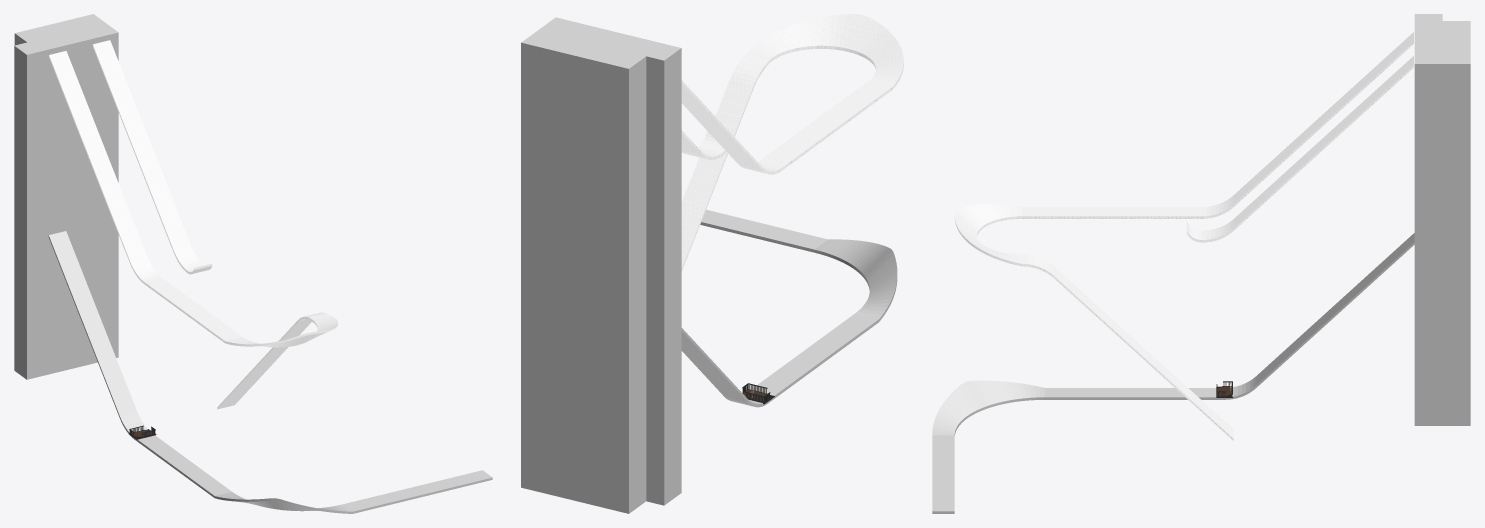
The model's file is Slides_Tower_Elevator.glb.
3 views of the same model, side by side, from view 1: azimuth 30°, elevation 25°; view 2: azimuth 150°, elevation 25°; view 3: azimuth 270°, elevation 25° (orthographic). The views are drawn at different scales.
Parts seen in each view (by area): view 1: Tower, Slide_03, Slide_01, Slide_02; view 2: Tower, Slide_03, Slide_01, Slide_02, Elevator; view 3: Tower, Slide_03, Slide_01, Slide_02.
Part boxes in pixels (x1,y1,x2,y2): Tower: (14, 14, 118, 379); Slide_03: (49, 51, 337, 409); Slide_01: (48, 231, 492, 513); Slide_02: (92, 40, 212, 274); Tower: (521, 17, 681, 513); Slide_03: (681, 14, 903, 271); Slide_01: (681, 209, 897, 407); Slide_02: (681, 130, 726, 159); Elevator: (742, 383, 774, 404); Tower: (1414, 14, 1470, 425); Slide_03: (954, 32, 1413, 440); Slide_01: (932, 233, 1414, 513); Slide_02: (1186, 56, 1413, 242).
Size of what is drawn, in the model's own units: 228 by 286 by 383.
Materials: 5 (2 with a texture image).
